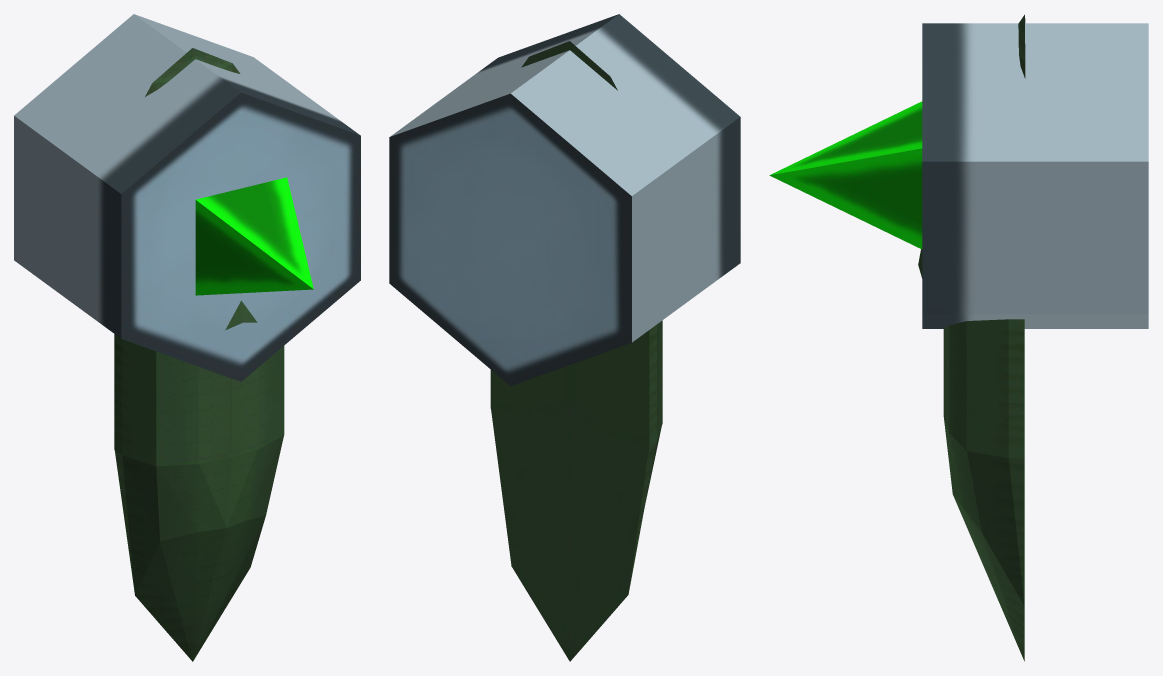
File: snake.glb
3 renders of one model, left to right at view 1: azimuth 30°, elevation 25°; view 2: azimuth 150°, elevation 25°; view 3: azimuth 270°, elevation 25°, orthographic. The views are drawn at different scales.
Parts seen in each view (by area): view 1: arena, tail, midle, up, head; view 2: arena, tail, midle, head; view 3: arena, up, midle, tail.
Part boxes in pixels (x1,y1,x2,y2): arena: (14,14,360,381); tail: (114,435,283,661); midle: (114,334,284,466); up: (195,177,313,295); head: (145,48,257,330); arena: (389,14,740,386); tail: (491,399,661,661); midle: (490,320,662,447); head: (521,41,617,90); arena: (922,23,1148,328); up: (769,101,922,249); midle: (943,319,1024,458); tail: (944,418,1024,661).
Bounding box in the file's own units: 0.1648 × 0.4037 × 0.2144.
1 material, 1 textured.
